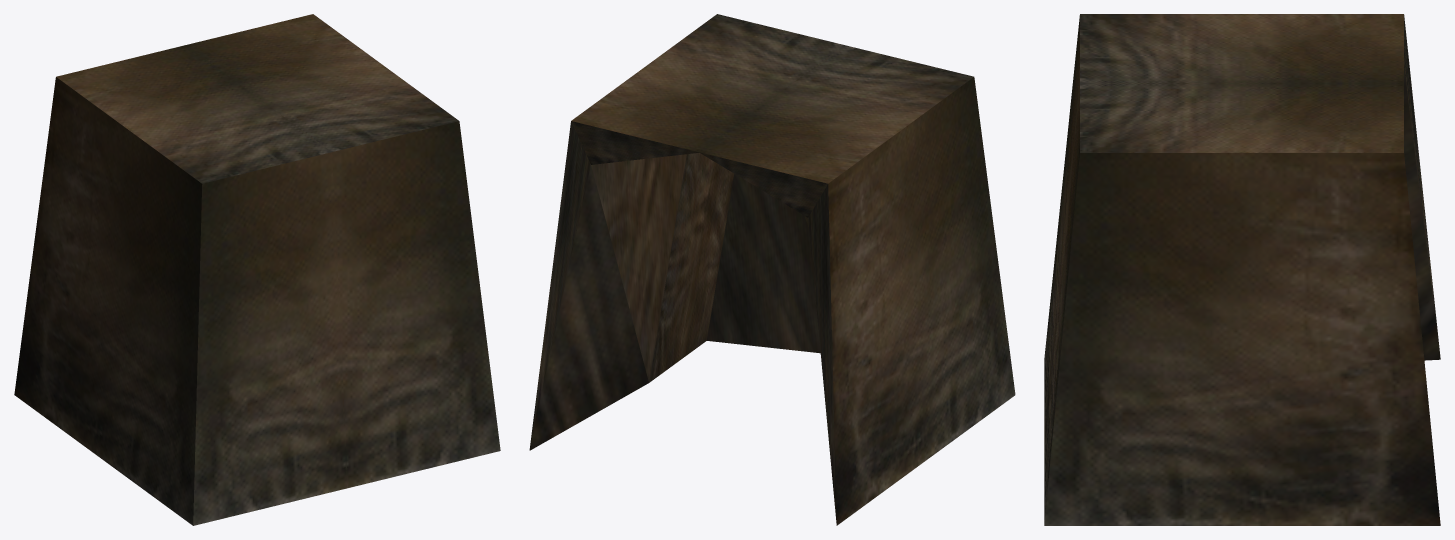
The model's file is arm_cape_head.obj.
3 views of the same model, side by side, from view 1: azimuth 30°, elevation 25°; view 2: azimuth 150°, elevation 25°; view 3: azimuth 270°, elevation 25° (orthographic). The views are drawn at different scales.
Visible parts, largest first — view 1: arm_cape_head_Cube.003; view 2: arm_cape_head_Cube.003; view 3: arm_cape_head_Cube.003.
Boxes of the visible parts, x1,y1,x2,y2 form: arm_cape_head_Cube.003: [14, 14, 500, 525]; arm_cape_head_Cube.003: [529, 14, 1015, 525]; arm_cape_head_Cube.003: [1044, 14, 1440, 525].
Size of the model in its own units: 1.98 by 2 by 2.
